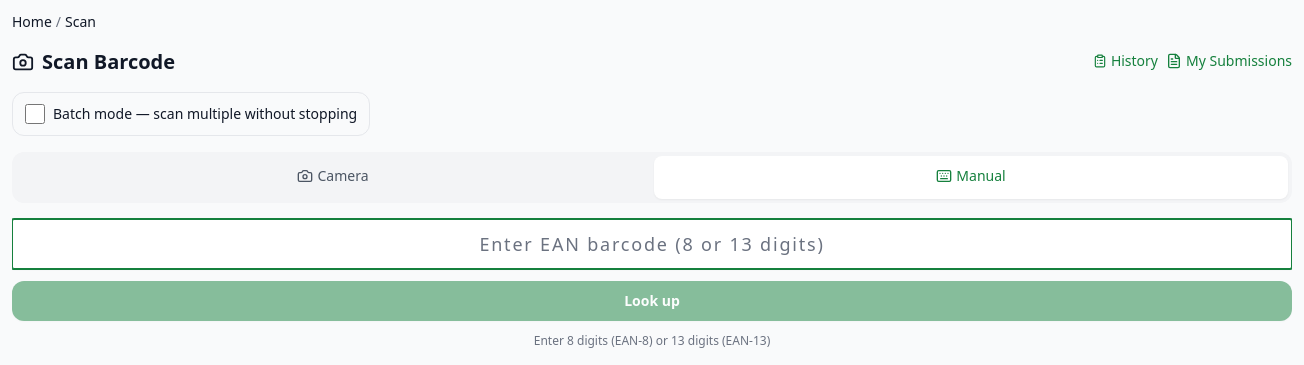
Test: ScanPage › shows error state when lookup fails
This screenshot has width=1304, height=365.
Click the button "Manual" at point(971, 178), box [654,156,1288,199]
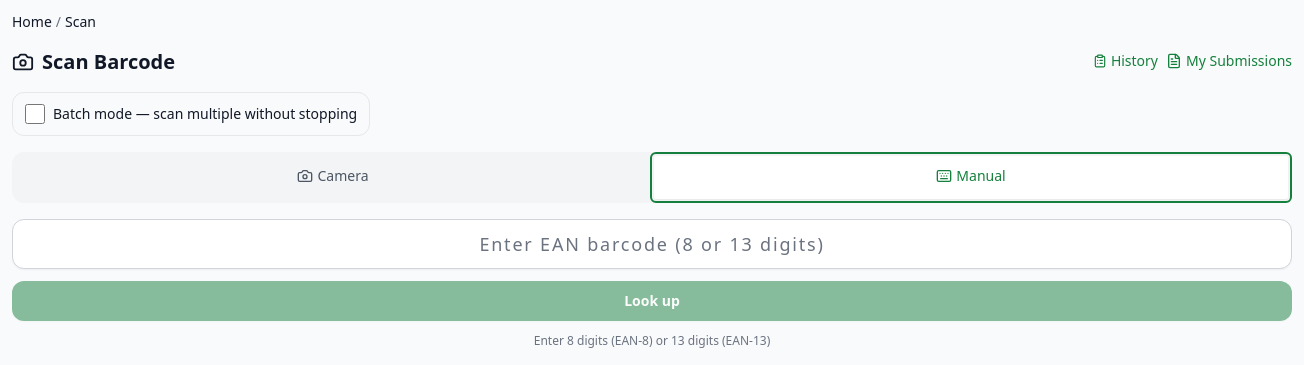
Type "5901234123457" into the field with placeholder "Enter EAN barcode (8 or 13 digits)" at point(652, 244), box [12,219,1292,269]
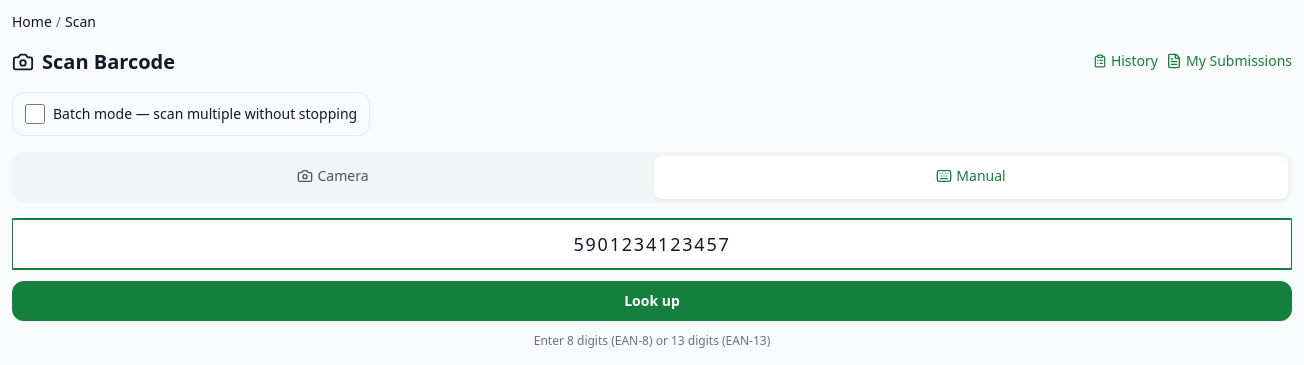
Click the button "Look up" at point(652, 301), box [12,281,1292,321]
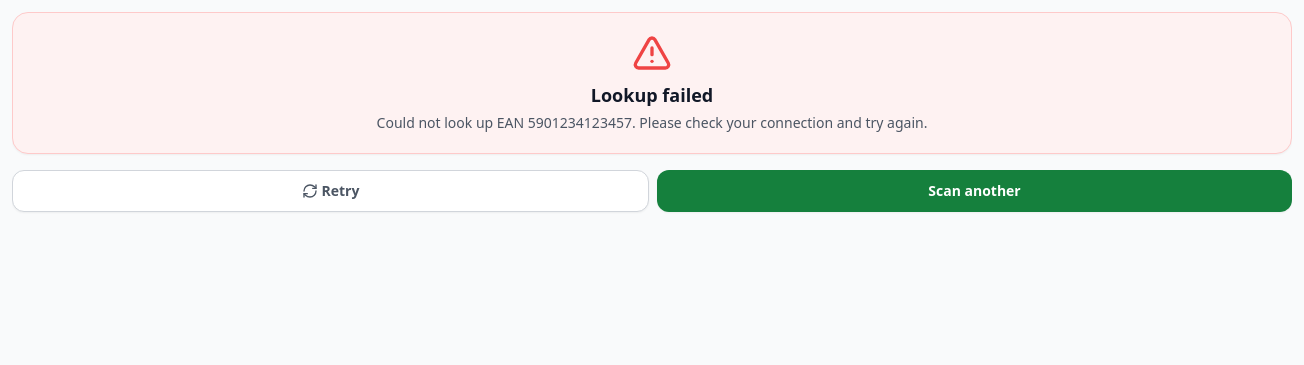
Now the text "Lookup failed" is shown, box [591,83,713,107]
Now the button "Scan another" is shown, box [657,170,1292,212]
